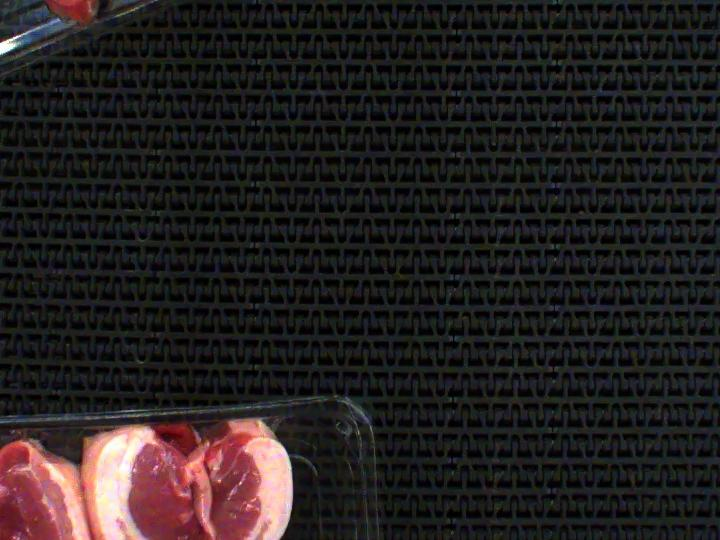packaging-error: (3, 426, 67, 448), (261, 408, 284, 440)
